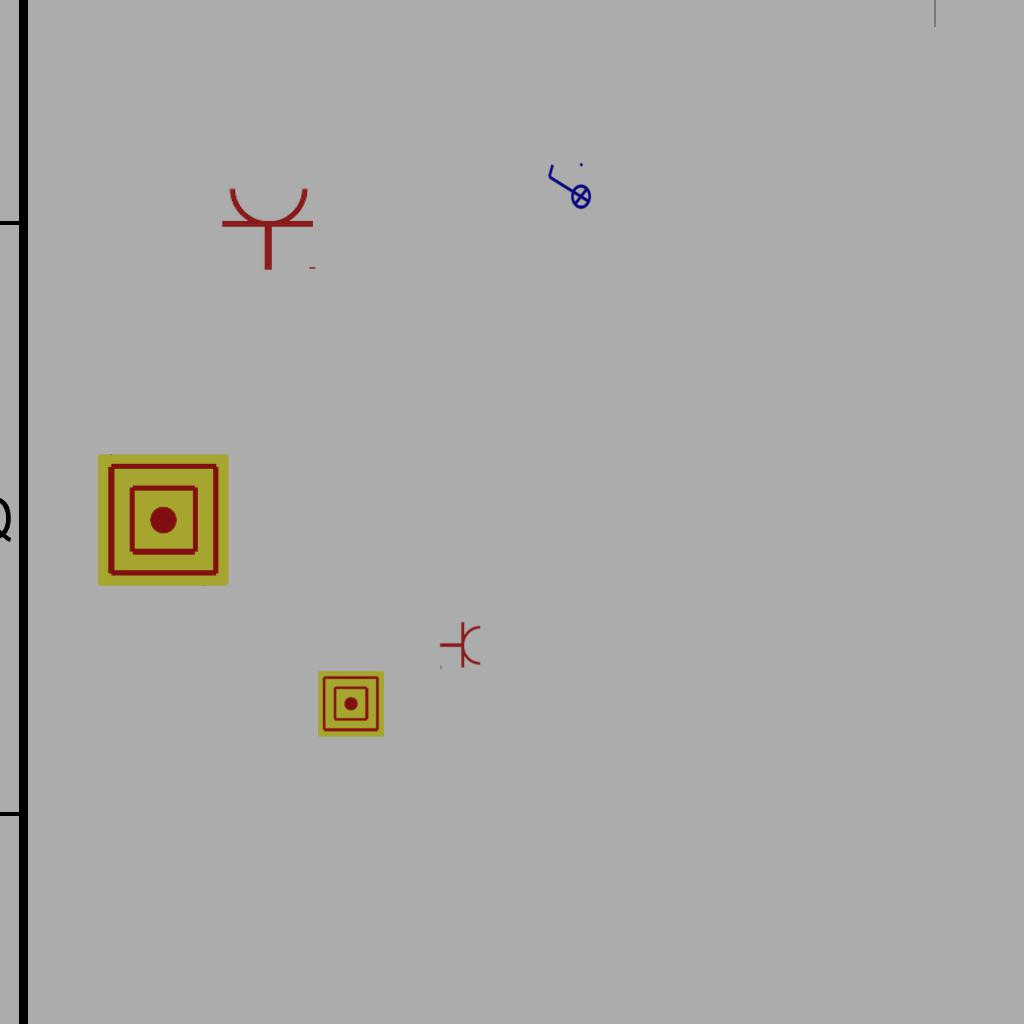Ausschalter_beleuchtet: (544, 160, 592, 216)
NAM-Nichtautomatischer_Melder: (97, 454, 229, 586), (318, 671, 384, 737)
Schukosteckdose_einfach: (220, 185, 320, 272), (439, 621, 482, 671)
